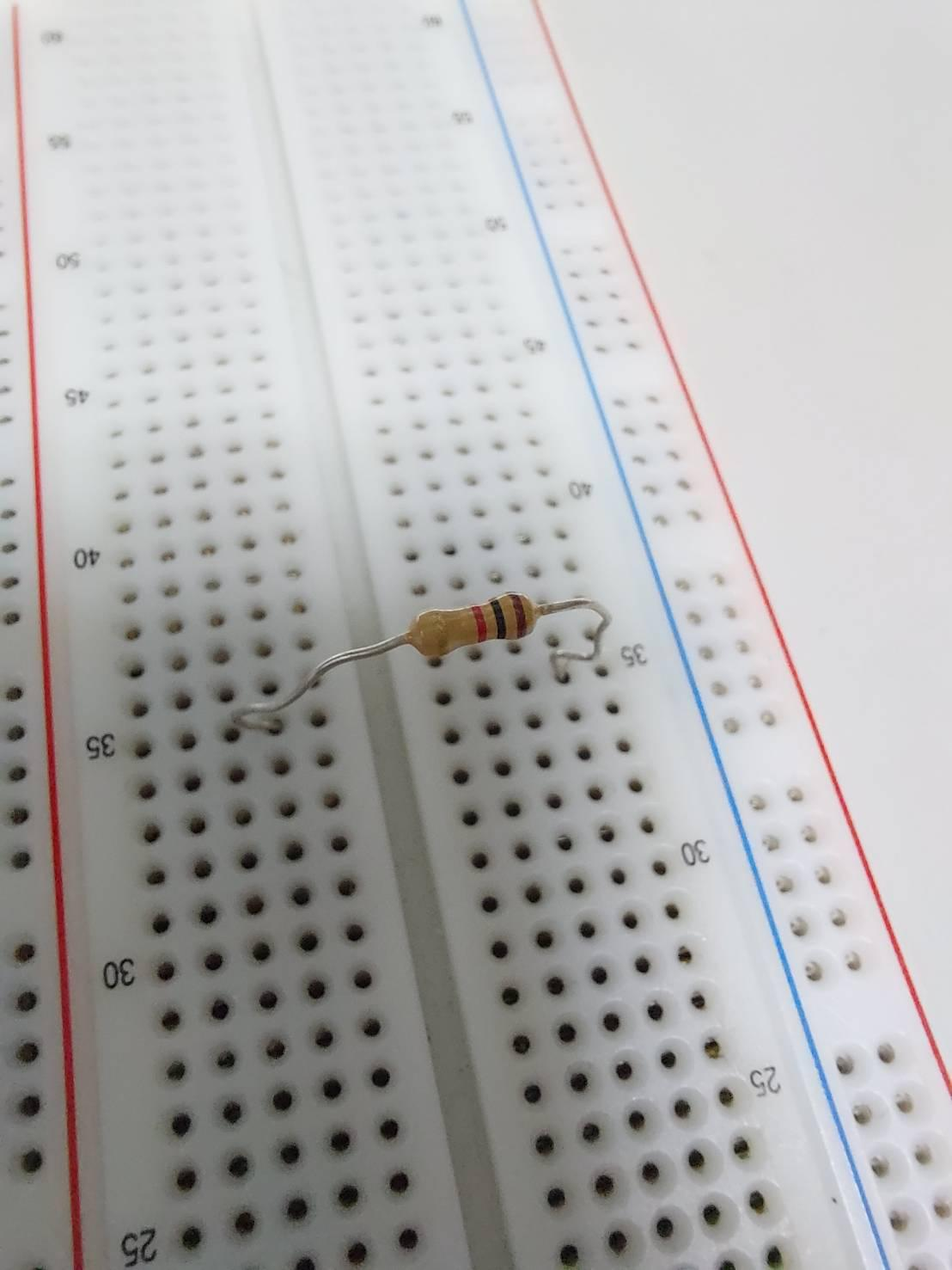resistor: (412, 596, 536, 656)
